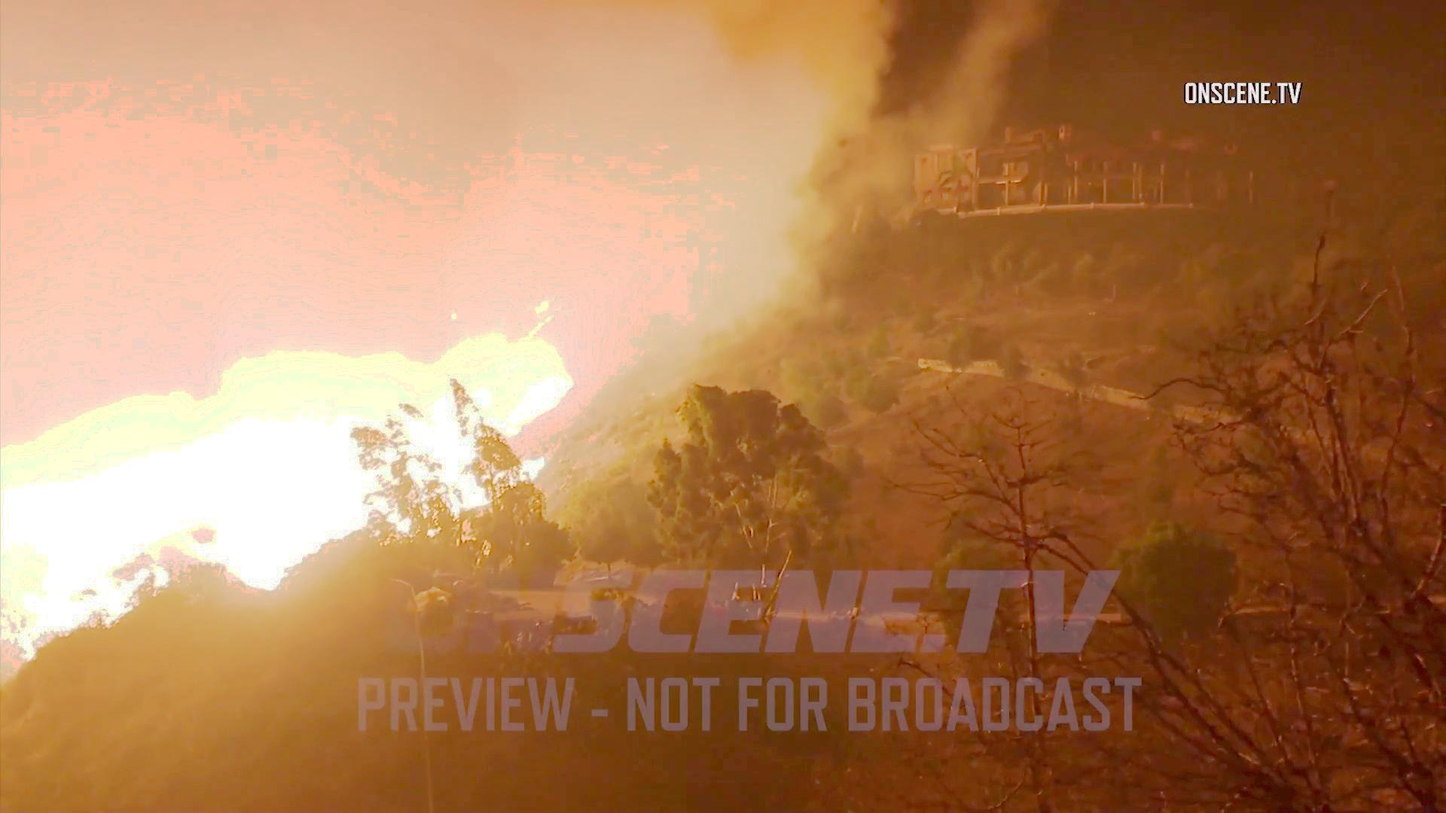fire: (17, 352, 519, 508)
smoke: (0, 0, 616, 303)
